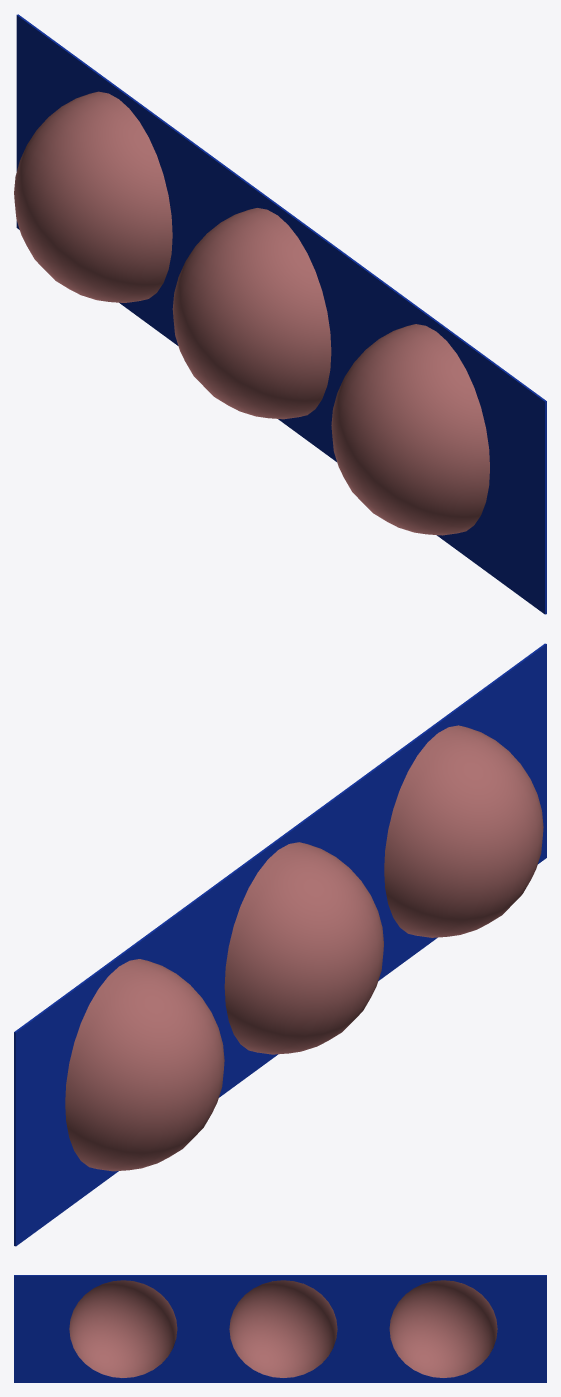
File: 10x45 3 nipples.FBX
3 views of the same model, one above another, from view 1: azimuth 30°, elevation 25°; view 2: azimuth 150°, elevation 25°; view 3: azimuth 270°, elevation 25° (orthographic). The views are drawn at different scales.
Visible parts, largest first — view 1: Box006; view 2: Box006; view 3: Box006.
Part boxes in pixels (x1,y1,x2,y2): Box006: [14, 14, 546, 614]; Box006: [14, 643, 546, 1246]; Box006: [14, 1275, 546, 1382].
Bounding box in the file's own units: 4.57 × 10 × 45.
